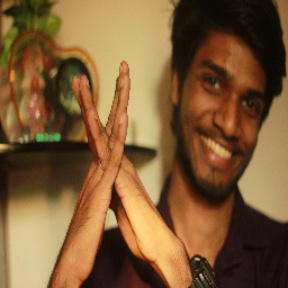W: (65, 54, 162, 274)
